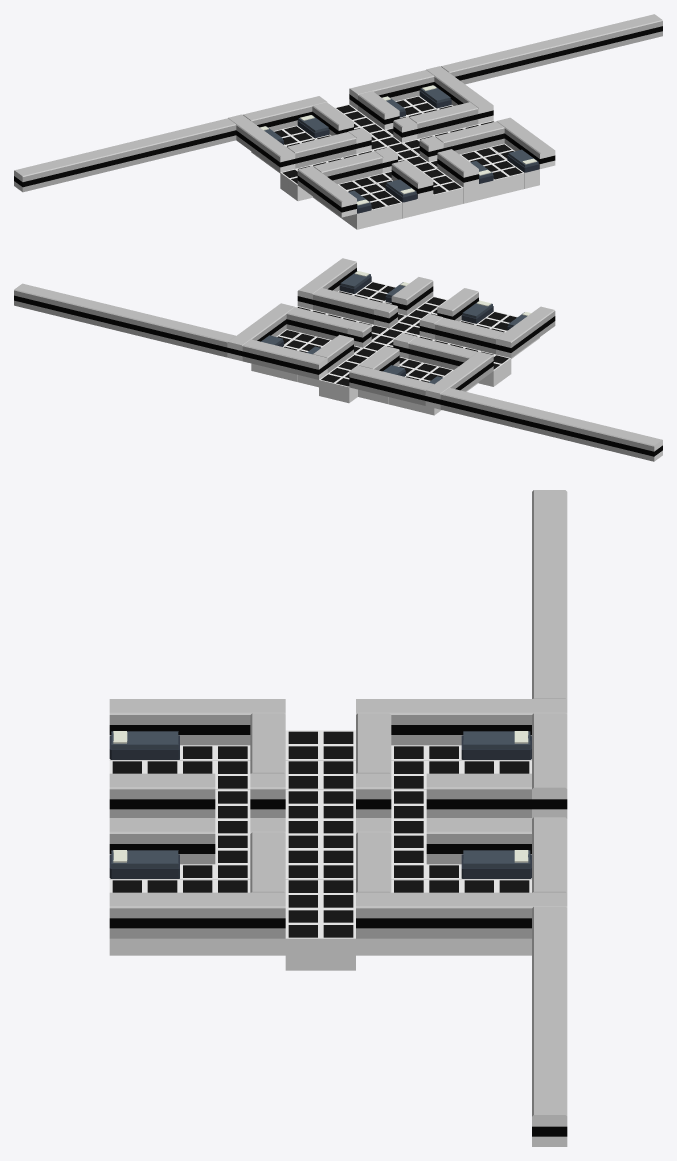
Rendered from bedroomLarge1.fbx.
3 renders of one model, top to bottom at view 1: azimuth 30°, elevation 25°; view 2: azimuth 150°, elevation 25°; view 3: azimuth 270°, elevation 25°, orthographic. The views are drawn at different scales.
Parts seen in each view (by area): view 1: Cube.181, Cube.212, Cube.183, Cube.209, Cube.265, Cube.237, Cube.213, Cube.007, Cube.009, Cube.214, Cube.215, Cube.196 (+56 smaller); view 2: Cube.168, Cube.265, Cube.214, Cube.179, Cube.007, Cube.009, Cube.208, Cube.212, Cube.194, Cube.226, Cube.234, Cube.197 (+55 smaller); view 3: Cube, Cube.211, Cube.236, Cube.235, Cube.176, Cube.202, Cube.205, Cube.201, Cube.177, Cube.184, Cube.185, Cube.190 (+28 smaller).
Part boxes in pixels (box(x1,y1,x2,y2)): Cube.181: box(271, 146, 295, 172); Cube.212: box(393, 117, 417, 142); Cube.183: box(333, 191, 356, 217); Cube.209: box(455, 162, 478, 187); Cube.265: box(14, 166, 37, 192); Cube.237: box(419, 85, 451, 108); Cube.213: box(297, 115, 329, 138); Cube.007: box(385, 179, 417, 202); Cube.009: box(507, 149, 539, 172); Cube.214: box(419, 136, 443, 161); Cube.215: box(375, 104, 399, 129); Cube.196: box(409, 173, 433, 198); Cube.168: box(303, 354, 327, 379); Cube.265: box(639, 436, 662, 461); Cube.214: box(374, 302, 397, 328); Cube.179: box(496, 332, 519, 357); Cube.007: box(461, 300, 493, 323); Cube.009: box(339, 271, 371, 293); Cube.208: box(391, 289, 415, 315); Cube.212: box(347, 322, 371, 347); Cube.194: box(334, 377, 357, 403); Cube.226: box(480, 328, 504, 354); Cube.234: box(358, 299, 382, 324); Cube.197: box(437, 301, 461, 321); Cube: box(109, 731, 179, 759); Cube.211: box(109, 850, 179, 878); Cube.236: box(461, 850, 531, 878); Cube.235: box(461, 731, 531, 759); Cube.176: box(391, 699, 426, 745); Cube.202: box(250, 892, 285, 938); Cube.205: box(391, 892, 426, 938); Cube.201: box(285, 924, 320, 970); Cube.177: box(426, 699, 461, 745); Cube.184: box(180, 699, 215, 745); Cube.185: box(215, 699, 250, 745); Cube.190: box(215, 892, 250, 938).
Bounding box in the file's own units: 8400 × 400 × 2600.
